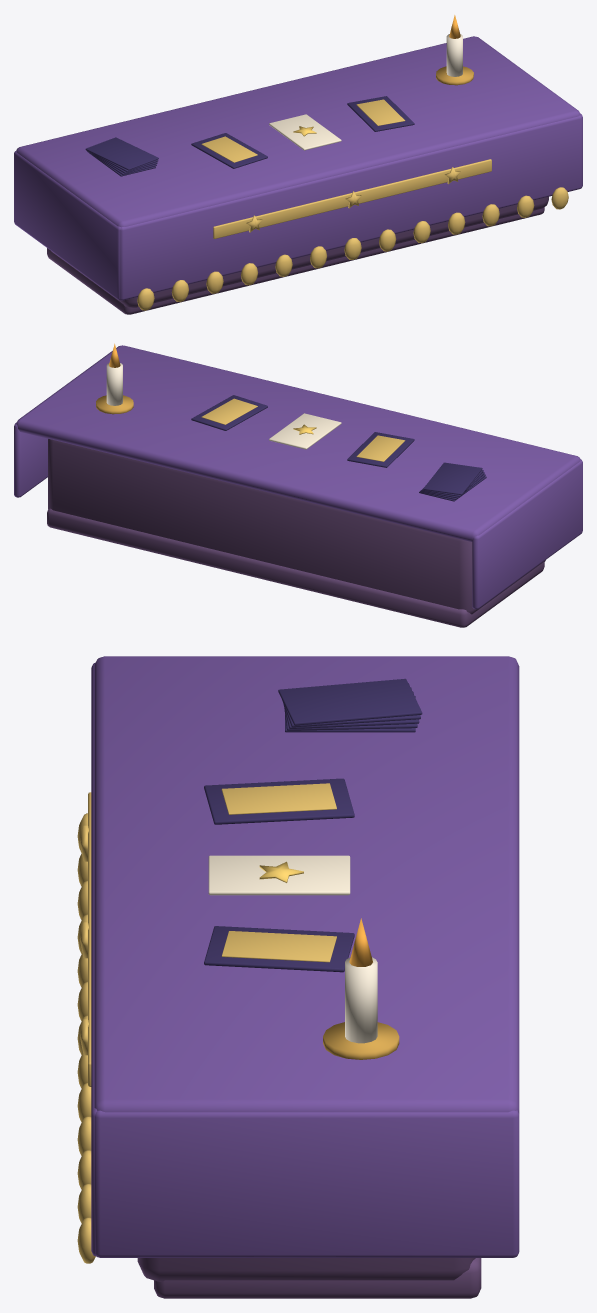
The model's file is tarot-table.glb.
The picture shows the model from 3 angles, top to bottom: view 1: azimuth 30°, elevation 25°; view 2: azimuth 150°, elevation 25°; view 3: azimuth 270°, elevation 25°; orthographic projection. The views are drawn at different scales.
Parts seen in each view (by area): view 1: table, cards; view 2: table, cards; view 3: table, cards.
Boxes of the visible parts, <box> form: table: <box>14,36,582,314</box>; cards: <box>85,34,473,176</box>; table: <box>14,345,582,627</box>; cards: <box>96,363,486,501</box>; table: <box>77,656,519,1298</box>; cards: <box>204,678,422,1059</box>.
Bounding box in the file's own units: 1.97 × 0.7 × 0.81.
